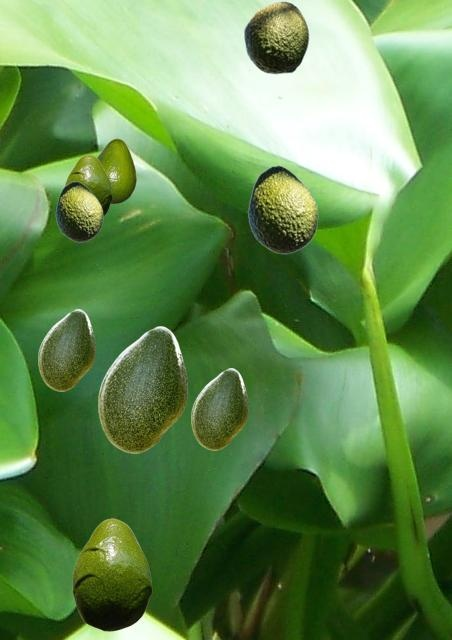avocado: (98, 326, 186, 452), (72, 518, 151, 630), (247, 165, 317, 253), (243, 1, 308, 73), (191, 368, 247, 449), (38, 309, 94, 390), (64, 154, 111, 217), (55, 181, 102, 241), (97, 138, 135, 202)
